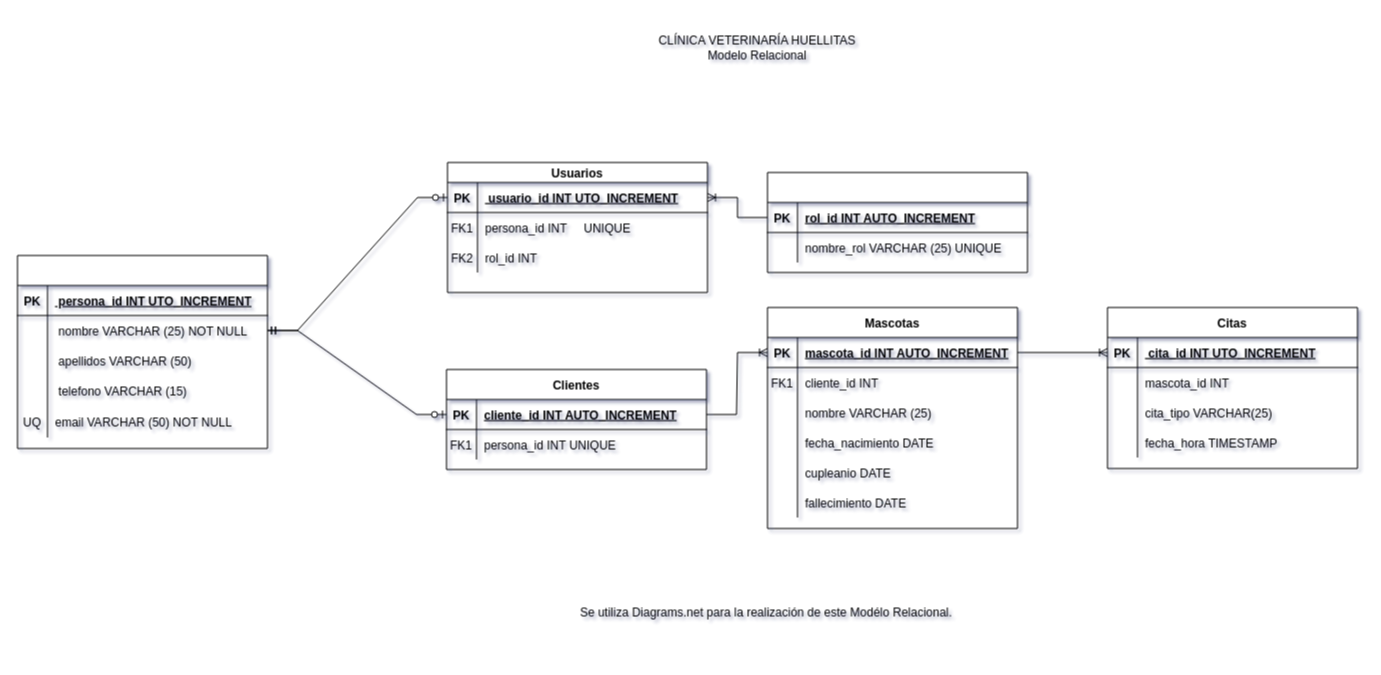
Some shapes in this 1381 by 675 pixel diagram are drawn without their labels. Each missing label, with the box of its shape:
Personas: (16, 254, 268, 448)
Roles: (766, 172, 1028, 272)
